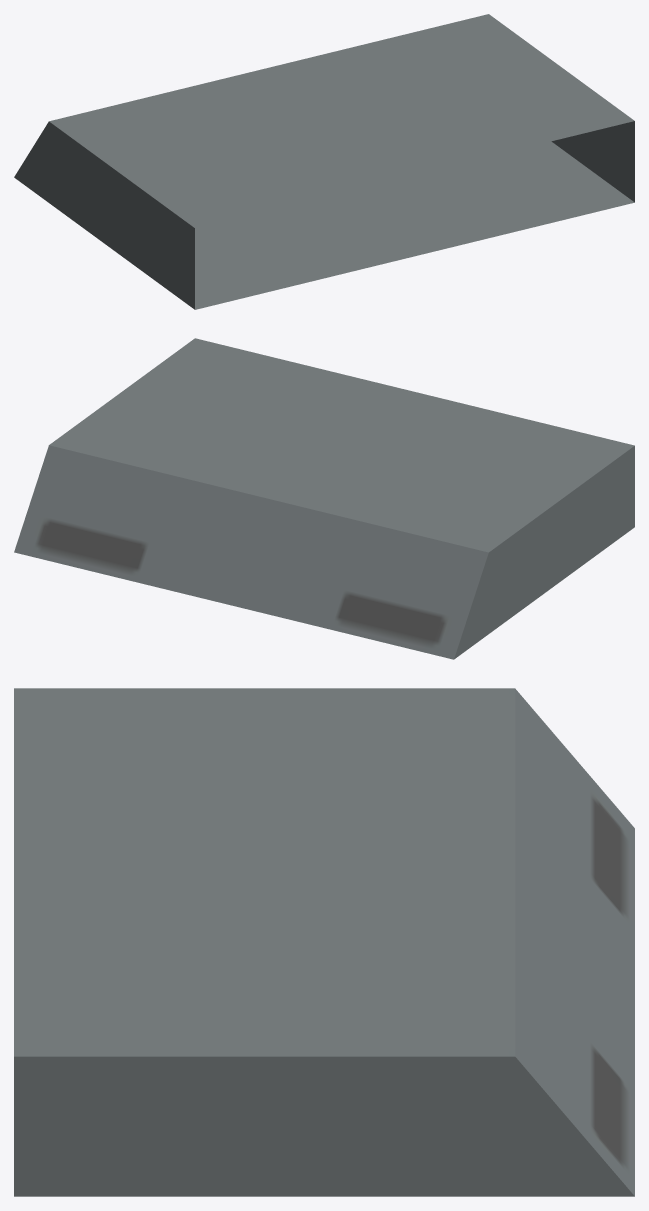
File: Wall_Ornament.fbx
The picture shows the model from 3 angles, top to bottom: view 1: azimuth 30°, elevation 25°; view 2: azimuth 150°, elevation 25°; view 3: azimuth 270°, elevation 25°; orthographic projection. The views are drawn at different scales.
Parts seen in each view (by area): view 1: Wall_Ornament; view 2: Wall_Ornament; view 3: Wall_Ornament.
Part boxes in pixels (x1=…): Wall_Ornament: x1=14, y1=14, x2=634, y2=309; Wall_Ornament: x1=14, y1=338, x2=634, y2=659; Wall_Ornament: x1=14, y1=688, x2=634, y2=1196.
Bounding box in the file's own units: 0.7216 × 0.128 × 0.5145.
Materials: 1 (1 with a texture image).
